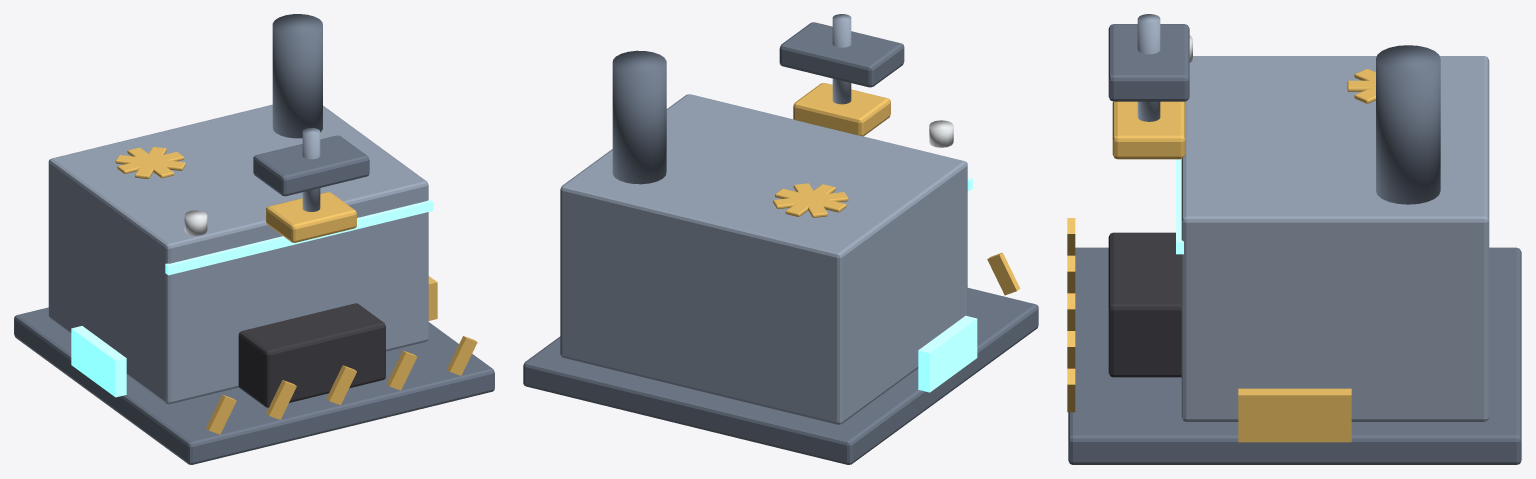
Rendered from ensambladora.glb.
3 renders of one model, left to right at view 1: azimuth 30°, elevation 25°; view 2: azimuth 150°, elevation 25°; view 3: azimuth 270°, elevation 25°, orthographic. The views are drawn at different scales.
Visible parts, largest first — view 1: cuerpo, base, boca, chimenea, soporte_piston, cabeza, puerto_entrada, franja_neon, vastago, raya_0, raya_3, raya_1 (+3 smaller); view 2: cuerpo, base, chimenea, soporte_piston, cabeza, puerto_entrada, vastago, raya_0, luz_estado, aspa_1, aspa_0; view 3: cuerpo, base, boca, chimenea, puerto_salida, soporte_piston, cabeza, vastago, franja_neon.
Part boxes in pixels (x1,y1,x2,y2): cuerpo: (48,104,428,404); base: (14,307,494,464); boca: (238,303,385,407); chimenea: (272,14,322,138); soporte_piston: (253,135,369,196); cabeza: (266,192,356,242); puerto_entrada: (71,326,126,397); franja_neon: (165,199,433,275); vastago: (302,127,320,211); raya_0: (206,394,236,434); raya_3: (386,350,417,390); raya_1: (266,380,296,419); cuerpo: (560,94,967,424); base: (523,288,1038,464); chimenea: (612,50,666,184); soporte_piston: (779,22,904,87); cabeza: (793,83,890,136); puerto_entrada: (918,315,977,392); vastago: (832,14,851,104); raya_0: (987,252,1020,295); luz_estado: (929,120,953,147); aspa_1: (773,192,848,208); aspa_0: (775,188,846,212); cuerpo: (1181,56,1489,421); base: (1068,247,1521,464); boca: (1108,232,1181,377); chimenea: (1376,45,1440,204); puerto_salida: (1238,388,1351,442); soporte_piston: (1108,24,1189,101); cabeza: (1112,101,1185,159); vastago: (1137,14,1160,121); franja_neon: (1176,159,1183,254).
Bounding box in the file's own units: 2.94 × 2.5 × 2.8.
